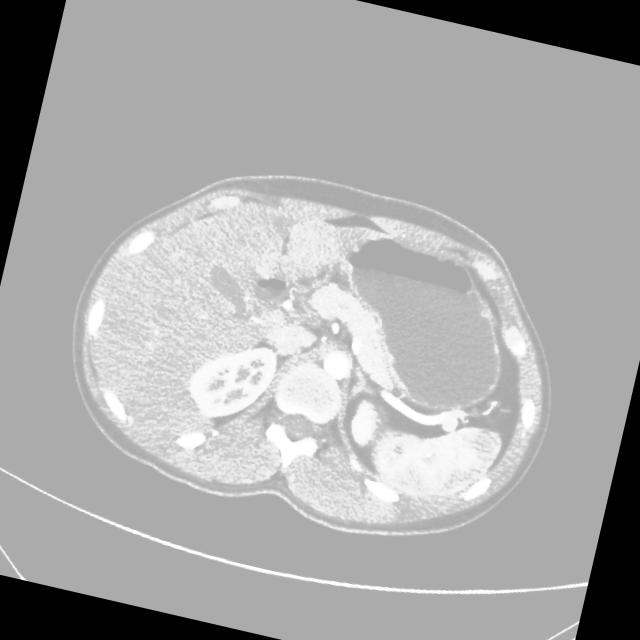NORMAL: (22, 106, 610, 592)
